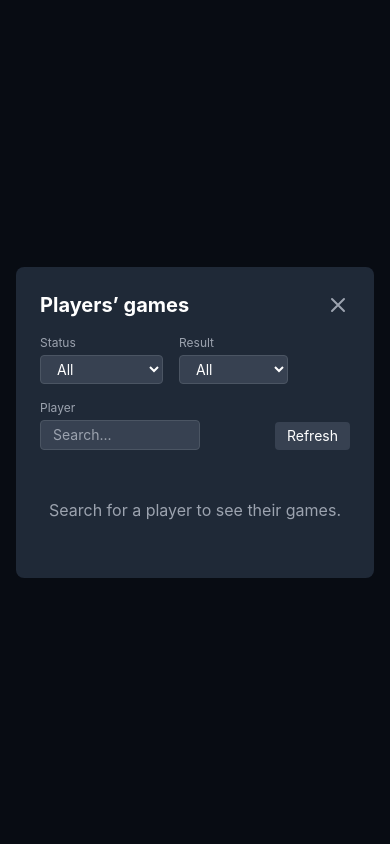
Test case: GameBrowser › shows error when API fails
Type "ali" into the field with placeholder "Search..." at (120, 434), box [40,420,200,450]
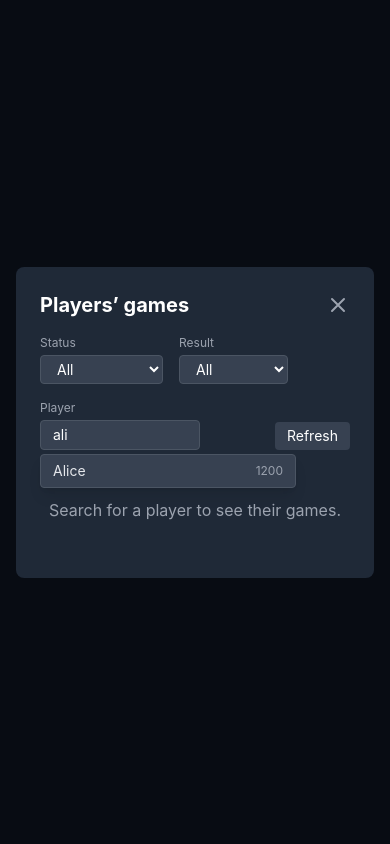
Click the text "Alice" at (69, 470), box [53,460,86,480]
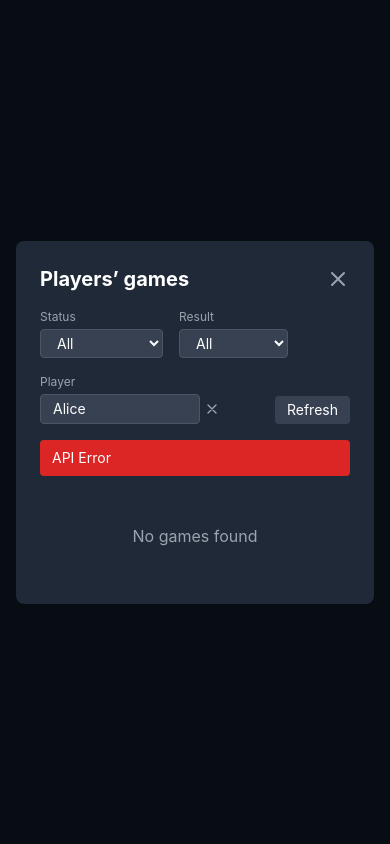
Expected: the text "API Error" is shown, [40,440,350,476]
